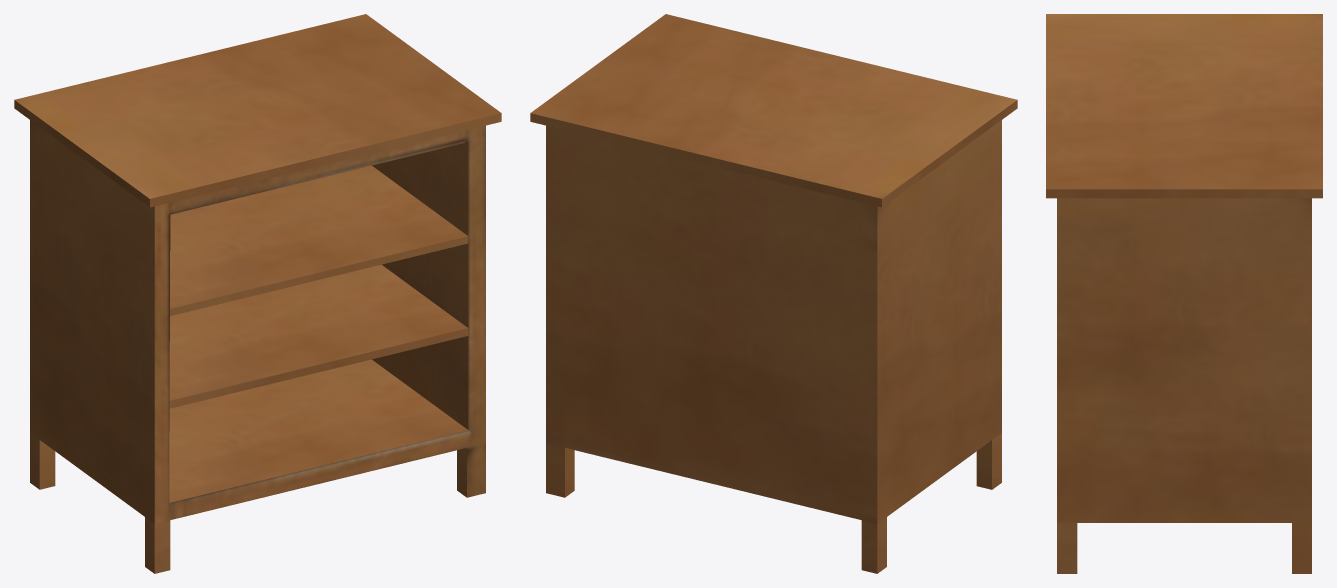
File: Chest_drawers_01_003-col.glb
The picture shows the model from 3 angles, left to right: view 1: azimuth 30°, elevation 25°; view 2: azimuth 150°, elevation 25°; view 3: azimuth 270°, elevation 25°; orthographic projection. The views are drawn at different scales.
Parts seen in each view (by area): view 1: Chest_drawers_01.003-col; view 2: Chest_drawers_01.003-col; view 3: Chest_drawers_01.003-col.
Boxes of the visible parts, bbox=[...] form: Chest_drawers_01.003-col: bbox=[14, 14, 501, 573]; Chest_drawers_01.003-col: bbox=[530, 14, 1017, 573]; Chest_drawers_01.003-col: bbox=[1046, 14, 1322, 573].
Size of the model in its own units: 2.25 by 2.33 by 1.5.
Materials: 1 (1 with a texture image).
